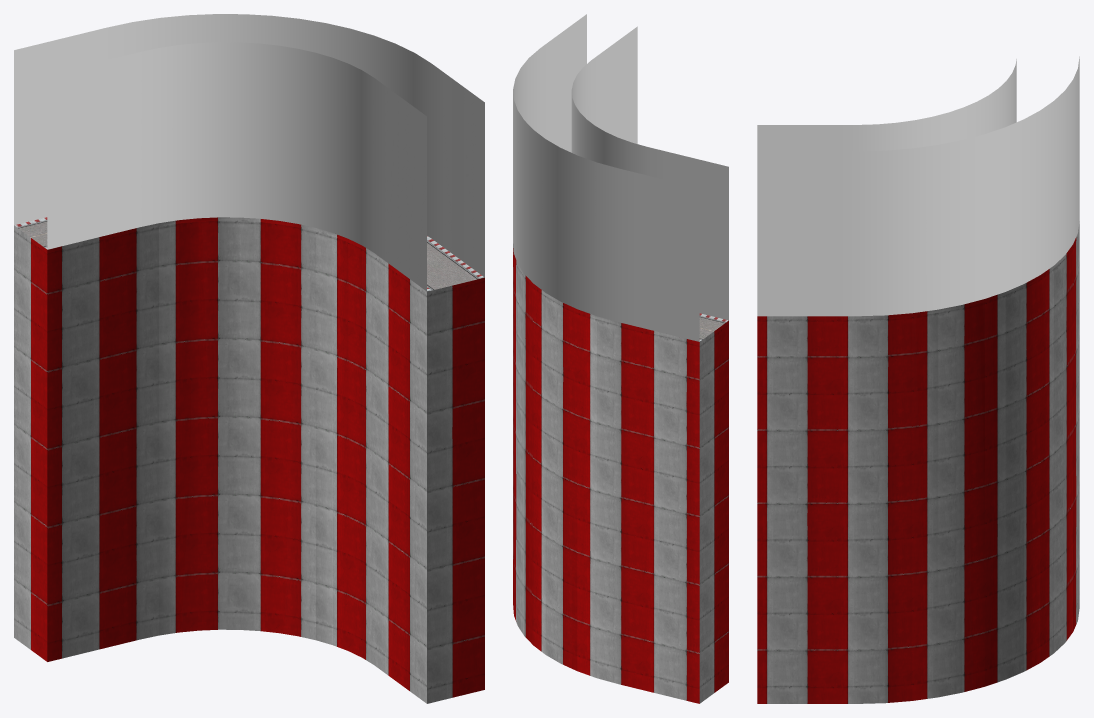
Rendered from track_twisted.fbx.
The picture shows the model from 3 angles, left to right: view 1: azimuth 30°, elevation 25°; view 2: azimuth 150°, elevation 25°; view 3: azimuth 270°, elevation 25°; orthographic projection. The views are drawn at different scales.
Parts seen in each view (by area): view 1: track_twisted, Turn_wall; view 2: track_twisted, Turn_wall; view 3: track_twisted, Turn_wall.
Part boxes in pixels (x1,y1,x2,y2): track_twisted: [14, 217, 484, 703]; Turn_wall: [14, 14, 484, 291]; track_twisted: [513, 244, 728, 703]; Turn_wall: [513, 14, 728, 341]; track_twisted: [757, 221, 1079, 703]; Turn_wall: [757, 56, 1079, 316].
Bounding box in the file's own units: 17574 × 32940 × 17397.
